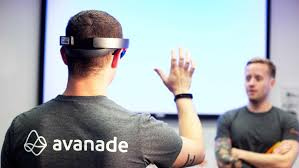hololens: (57, 35, 130, 65)
